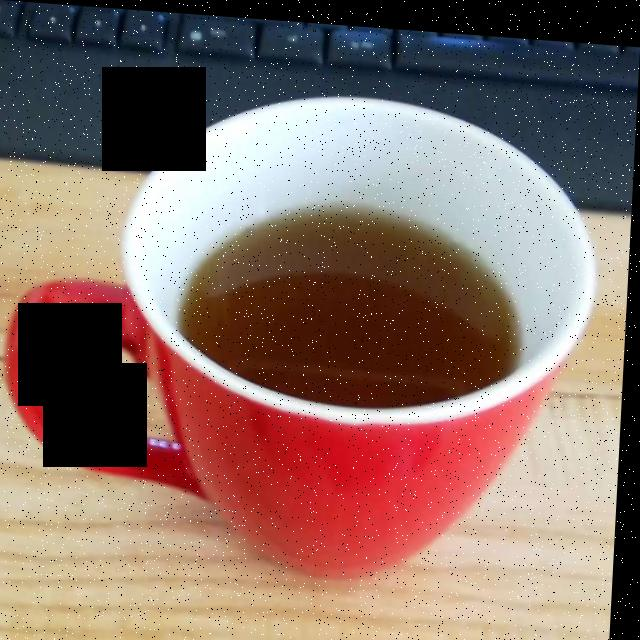tea: (189, 205, 524, 400)
tea-black: (189, 194, 508, 401)
